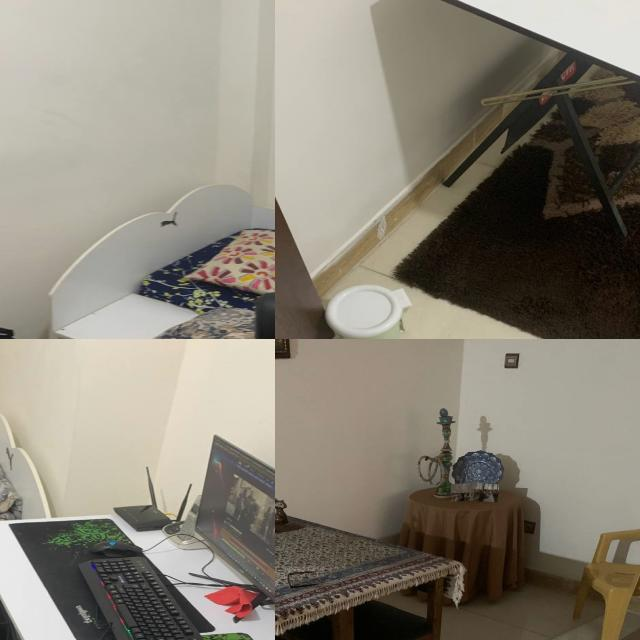Wall: (275, 339, 640, 559), (275, 0, 551, 278), (455, 339, 640, 564), (152, 339, 275, 516)
